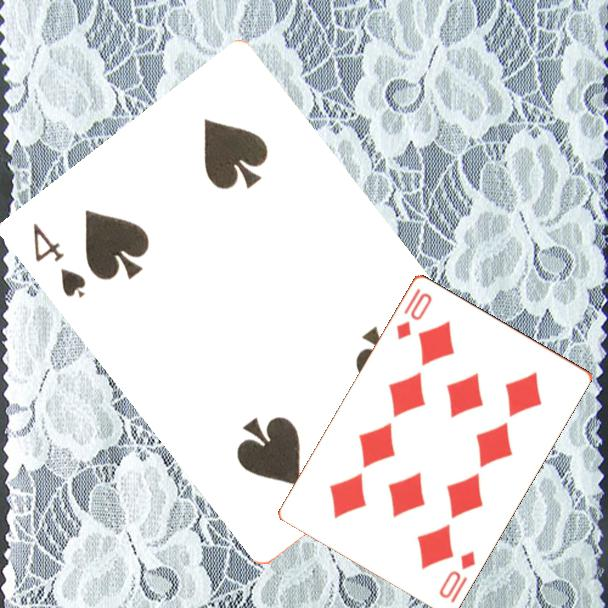d10: (435, 547, 478, 606), (392, 284, 435, 342)
s04: (29, 220, 90, 301)
